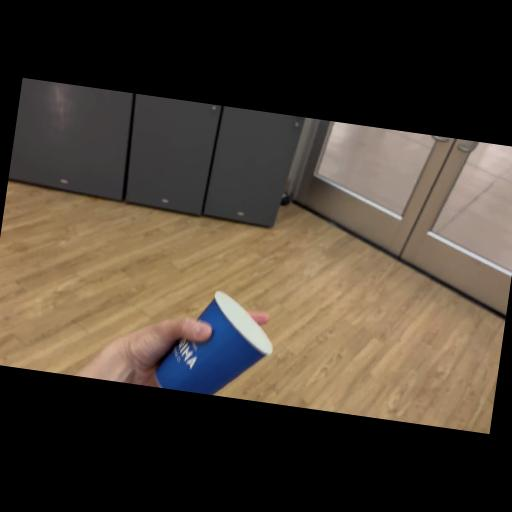lp_paper_cup: (151, 282, 280, 402)
